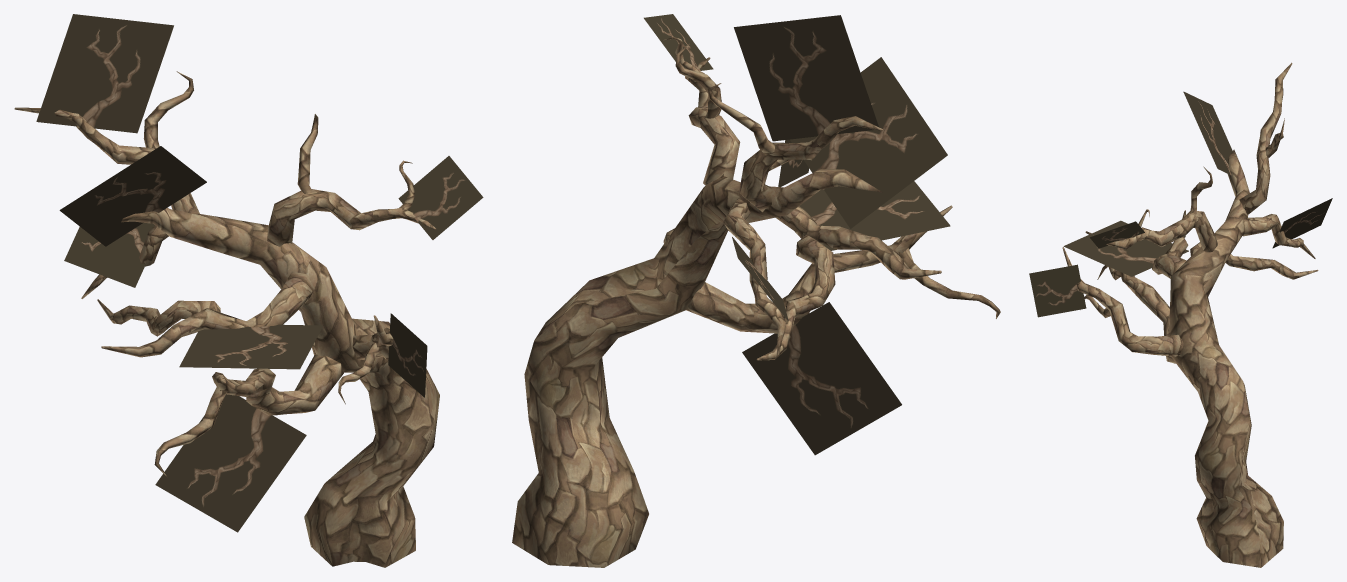
Rendered from dead tree bent.FBX.
3 views of the same model, side by side, from view 1: azimuth 30°, elevation 25°; view 2: azimuth 150°, elevation 25°; view 3: azimuth 270°, elevation 25° (orthographic). The views are drawn at different scales.
Visible parts, largest first — view 1: dead tree bent; view 2: dead tree bent; view 3: dead tree bent.
Boxes of the visible parts, bbox=[...] form: dead tree bent: bbox=[14, 14, 483, 567]; dead tree bent: bbox=[512, 14, 1000, 567]; dead tree bent: bbox=[1029, 62, 1332, 567].
Bounding box in the file's own units: 6.79 × 9.9 × 6.24.
